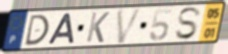5: (148, 8, 174, 42)
A: (46, 12, 76, 46)
D: (23, 13, 51, 47)
K: (85, 11, 111, 44)
S: (174, 6, 203, 41)
V: (115, 8, 144, 46)
